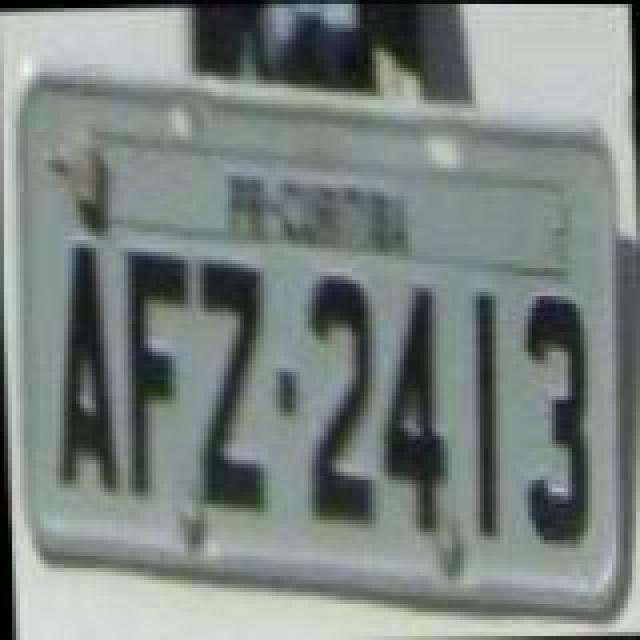1: (468, 278, 508, 538)
2: (302, 266, 378, 530)
3: (518, 284, 594, 548)
4: (374, 276, 450, 540)
A: (48, 236, 116, 492)
F: (118, 240, 198, 500)
Z: (196, 256, 276, 520)
